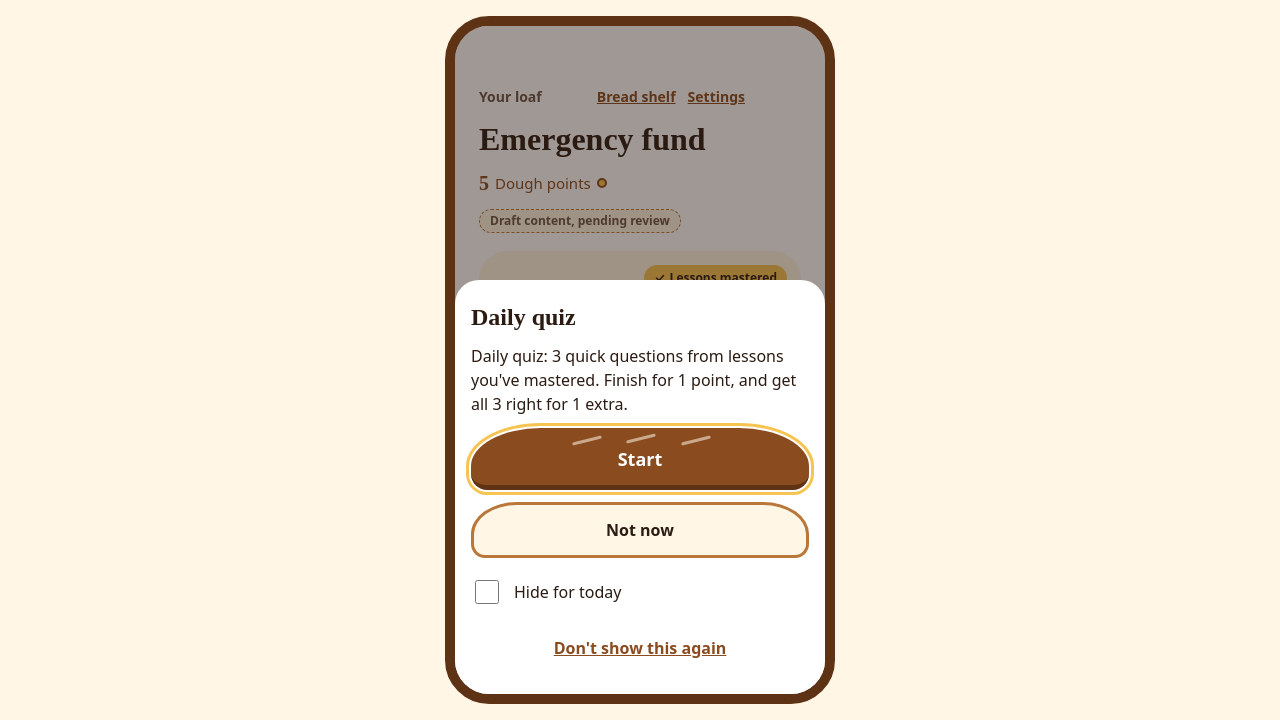
Scenario: the daily quiz popup › "Start" opens the daily quiz
Step 1. Click the button "Start" → (640, 459), box [471,428,809,490]
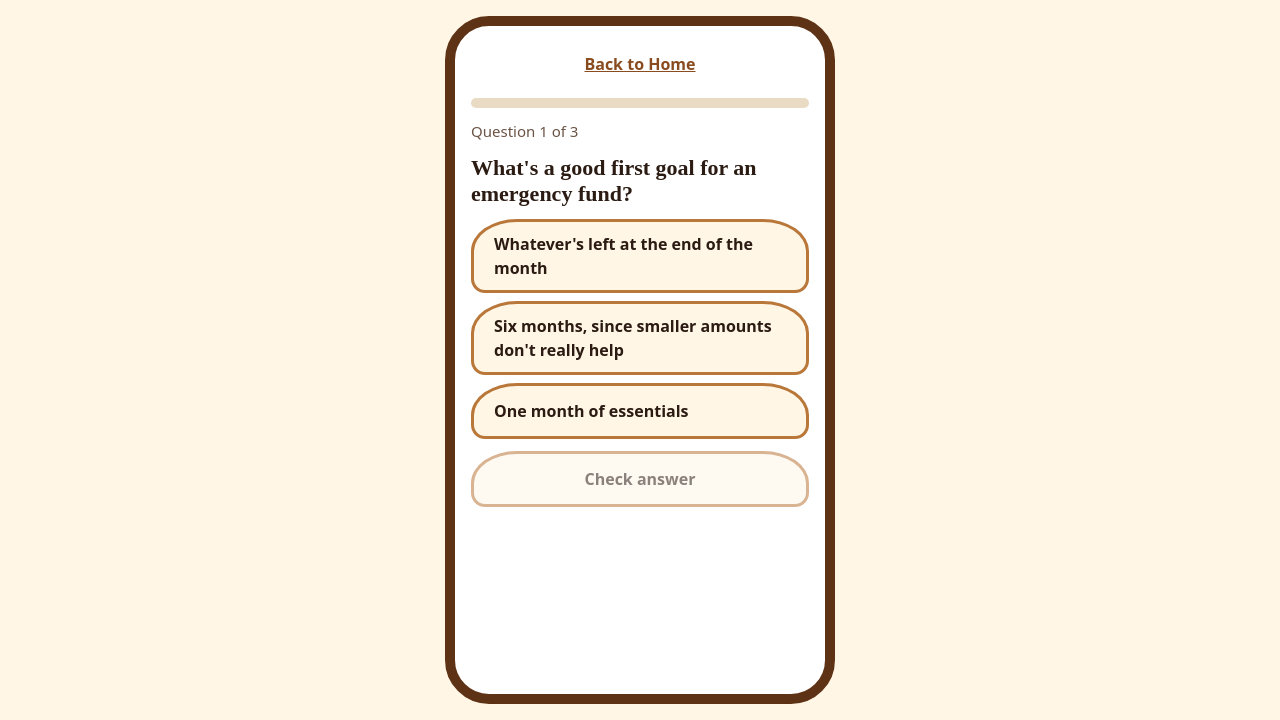
Check: the text "Question 1 of 3" is shown, box [471,121,578,141]
